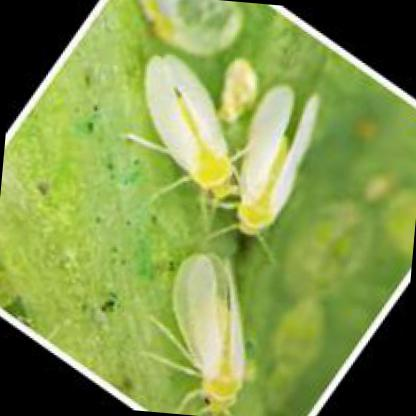whitefly: (143, 52, 239, 190), (171, 251, 247, 415), (237, 84, 319, 232)
